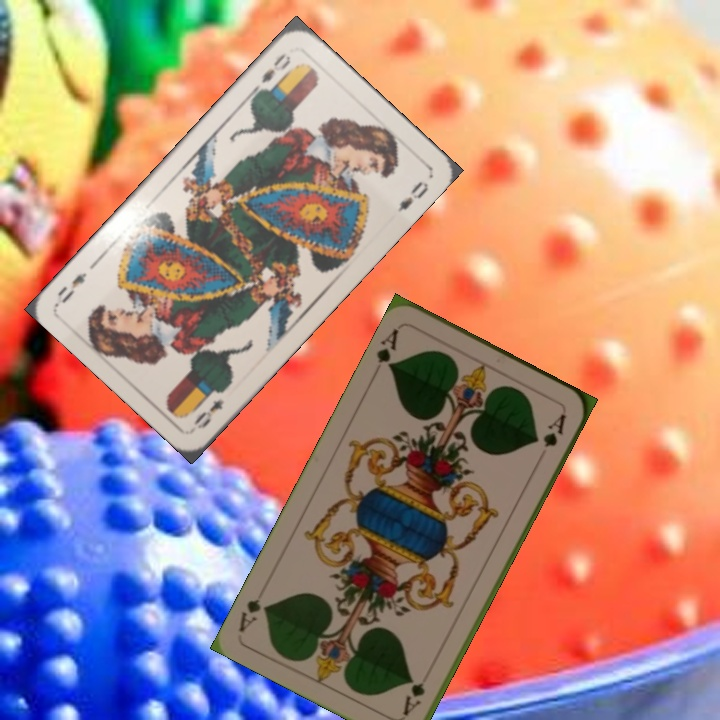EO: (250, 48, 293, 95), (189, 395, 227, 432)
GA: (372, 324, 402, 373), (398, 678, 428, 719)
